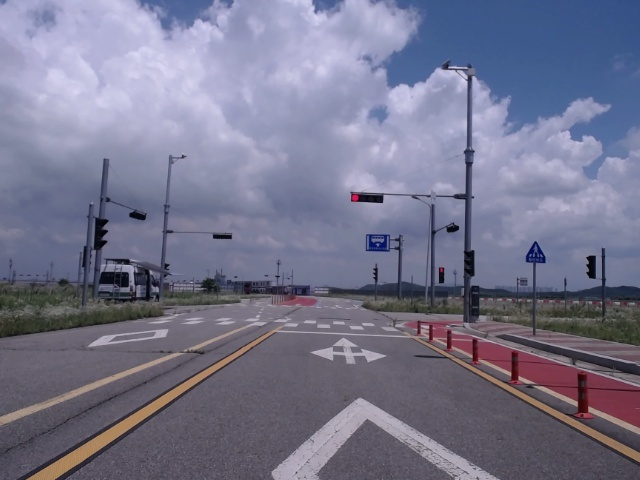red_4: (351, 194, 383, 203)
